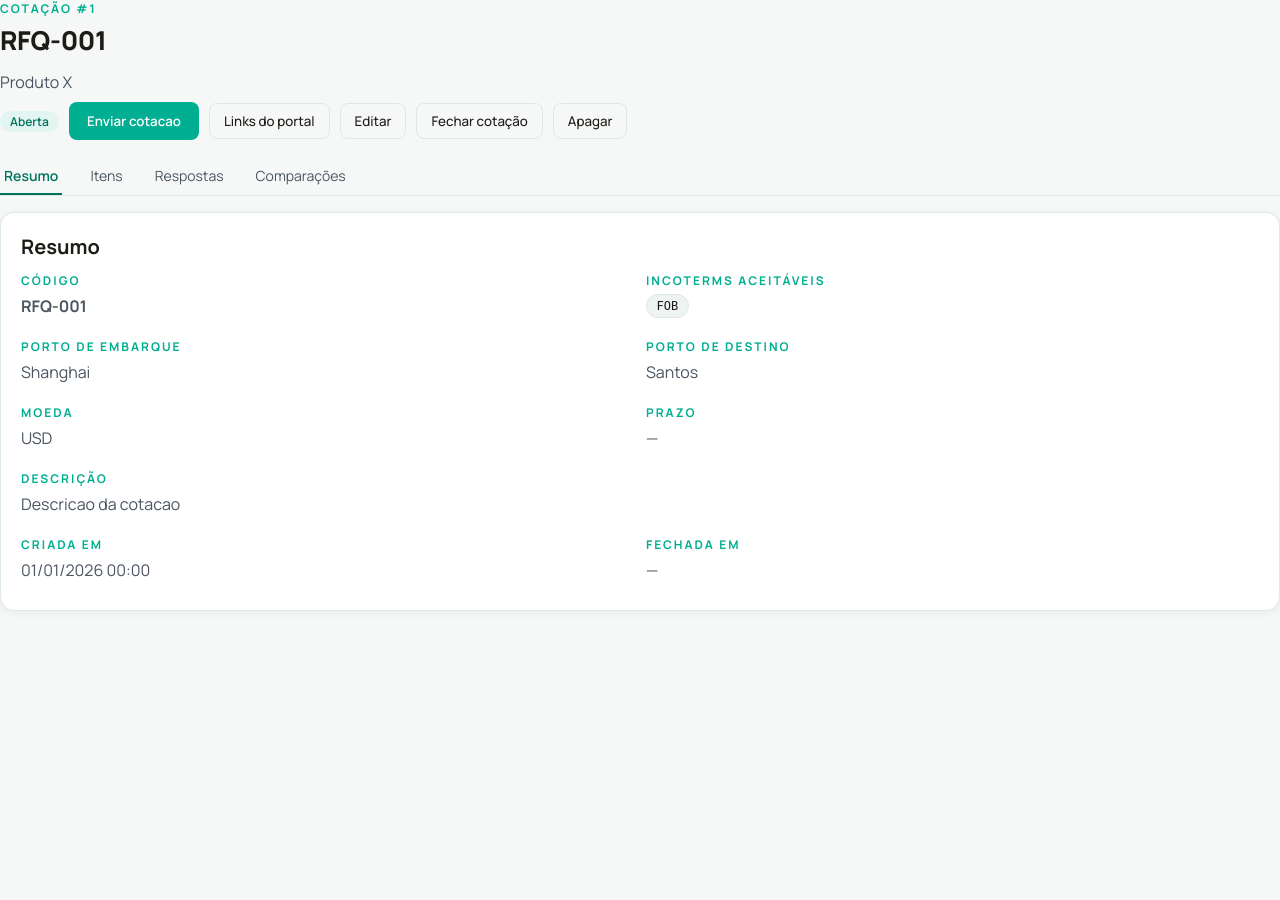
it: Modal de envio: coluna de pastas › renderiza a coluna dentro do master-detail, com contadores e seleção única
Click the button "Enviar cotacao".
click(134, 121)  # box [69,102,199,140]
(page scrolled)
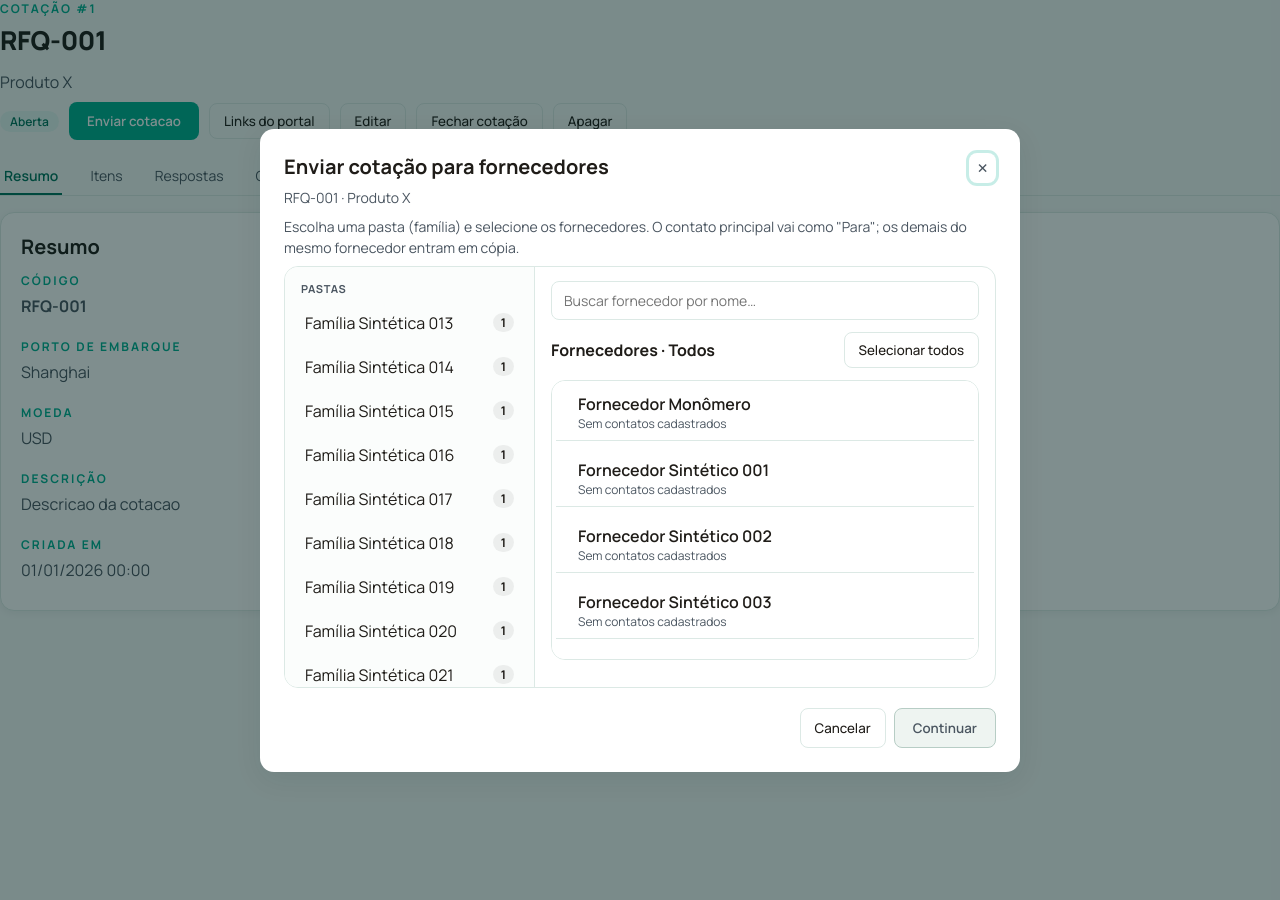
Result: the element with class "dispatcher-folders" is shown at [285,266,535,686]
Result: the element with class "dispatcher-folders" shows "Pastas" at [301,280,346,296]
Result: the 5th text with class "fcount" reads "1" at [501,490,506,507]
Click the button with class "folder" showing "Família Sintética 017 1".
click(410, 498)  # box [295,478,524,518]
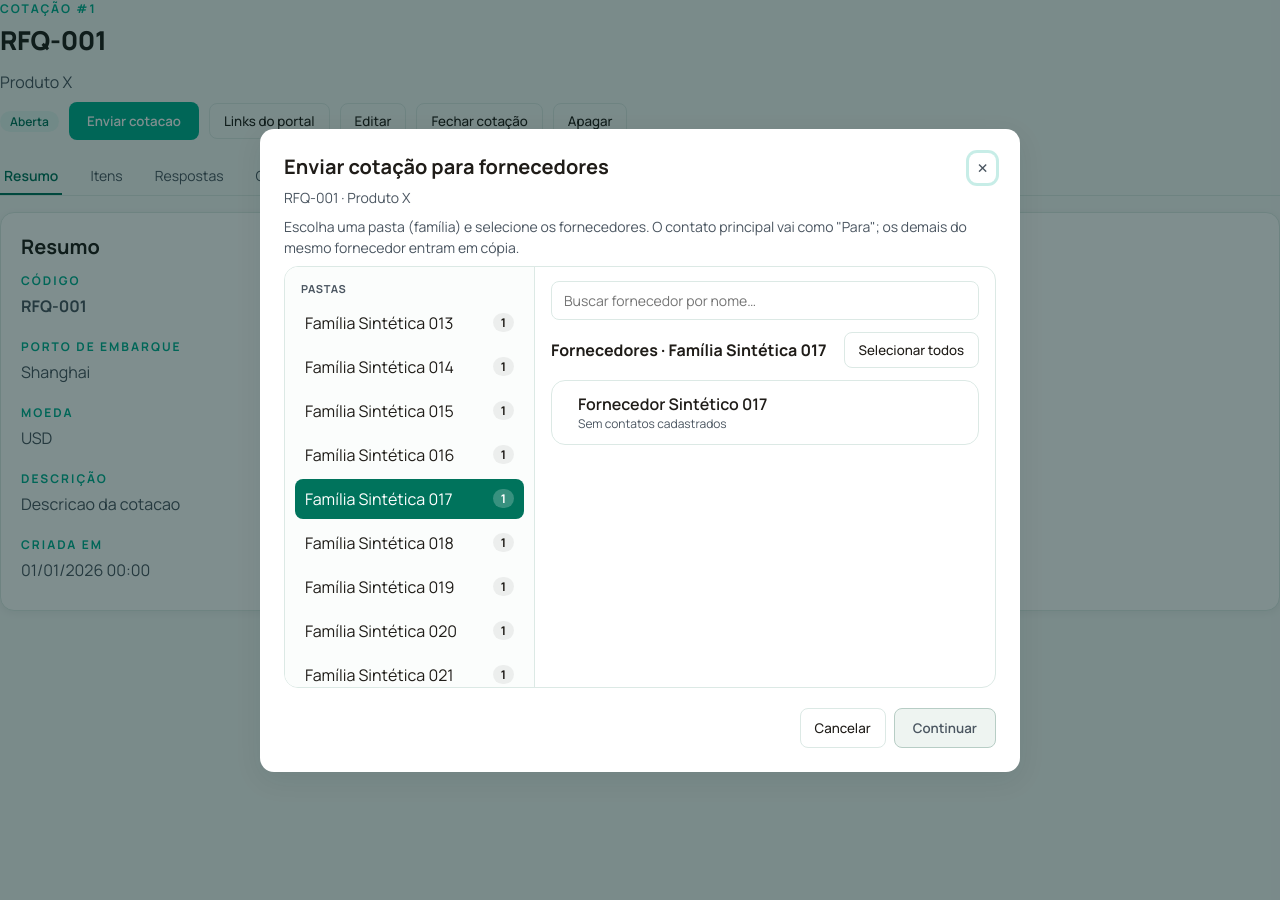
Result: the number of buttons with class "folder--on" is 1 at [295,478,524,518]
Result: the dialog shows "Fornecedores · Família Sintética 017" at [260,128,1020,772]
